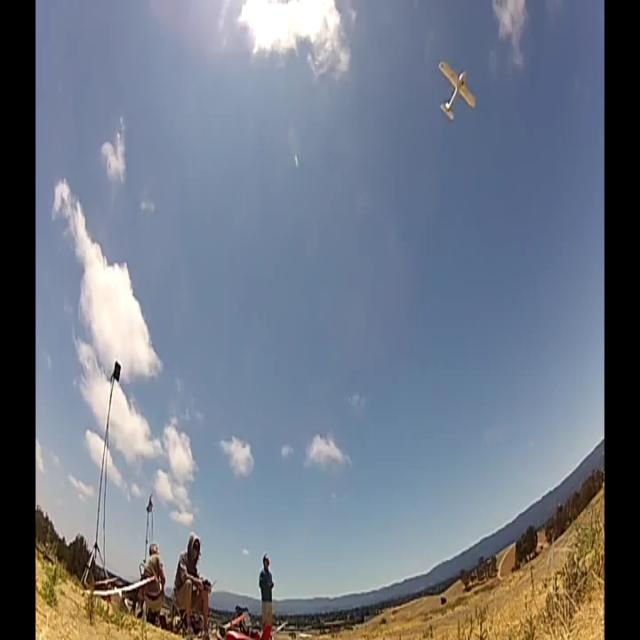iha: (55, 575, 59, 616), (432, 26, 470, 29)
